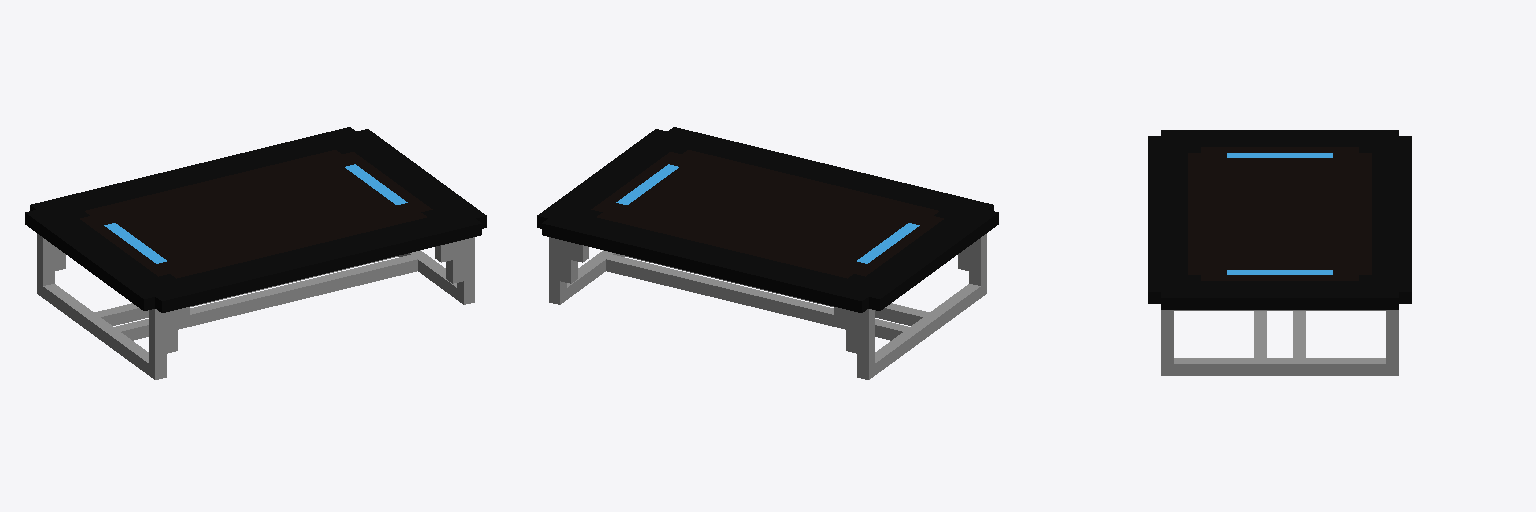
The picture shows the model from 3 angles: view 1: azimuth 30°, elevation 25°; view 2: azimuth 150°, elevation 25°; view 3: azimuth 270°, elevation 25°; orthographic projection.
Parts seen in each view (by area): view 1: object 1; view 2: object 1; view 3: object 1.
Part boxes in pixels (x1,y1,x2,y2): object 1: (25,127,486,379); object 1: (537,127,998,379); object 1: (1148,130,1411,375).
Size of the model in its own units: 3 by 0.7 by 2.
Materials: 1 (1 with a texture image).